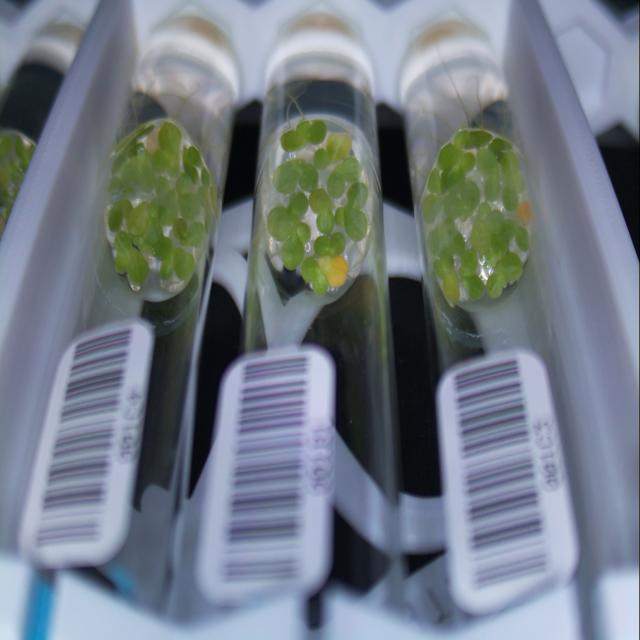Lemna-Gibba: (114, 230, 149, 289), (438, 143, 475, 191), (485, 208, 514, 267), (272, 158, 319, 193), (149, 175, 179, 227), (120, 153, 156, 196), (428, 218, 465, 259), (280, 120, 326, 152), (476, 147, 501, 202), (489, 137, 520, 178), (158, 122, 181, 177), (112, 135, 145, 172), (268, 205, 299, 240), (172, 217, 206, 247), (182, 145, 208, 183), (318, 255, 348, 287), (154, 235, 175, 280), (344, 205, 368, 242), (281, 232, 304, 270), (131, 228, 162, 255), (108, 198, 132, 232), (126, 202, 149, 237), (460, 180, 480, 220), (496, 252, 522, 282), (200, 180, 221, 217), (314, 232, 345, 257), (470, 218, 491, 254), (326, 132, 351, 162), (174, 247, 195, 280), (124, 123, 155, 144), (178, 192, 201, 220), (421, 193, 442, 223), (309, 188, 334, 213), (462, 274, 485, 300), (459, 248, 478, 279), (444, 270, 460, 305), (339, 157, 361, 182), (288, 192, 309, 217), (348, 182, 368, 208), (434, 254, 454, 280), (502, 180, 519, 210), (486, 274, 506, 299), (444, 195, 465, 218), (328, 170, 345, 198), (316, 208, 335, 233), (466, 130, 492, 148), (145, 215, 162, 242), (175, 173, 194, 197), (151, 148, 169, 173), (301, 257, 319, 282), (311, 272, 329, 295), (294, 218, 310, 243), (515, 200, 531, 225), (314, 148, 331, 170), (448, 173, 465, 195), (515, 227, 529, 252), (428, 168, 441, 193), (454, 130, 469, 150), (511, 173, 526, 193), (476, 202, 491, 220), (135, 145, 151, 160), (109, 177, 122, 193), (335, 207, 345, 227), (201, 167, 210, 187), (502, 176, 512, 187), (335, 165, 340, 173)
